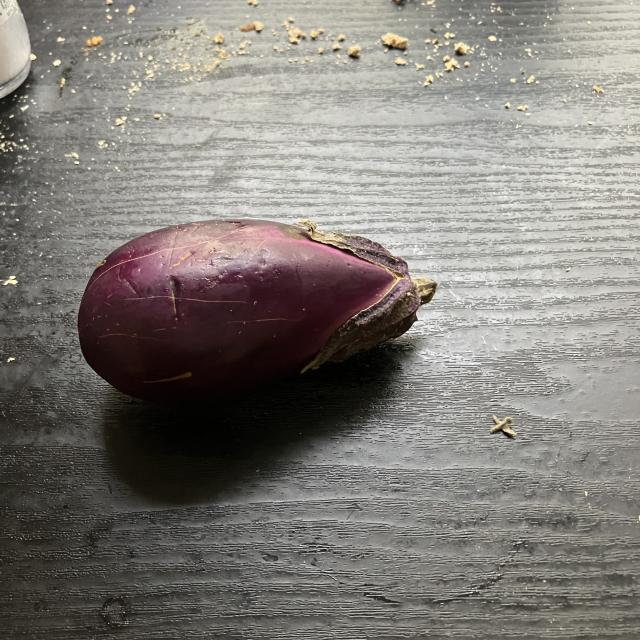eggplant: (77, 216, 439, 397)
